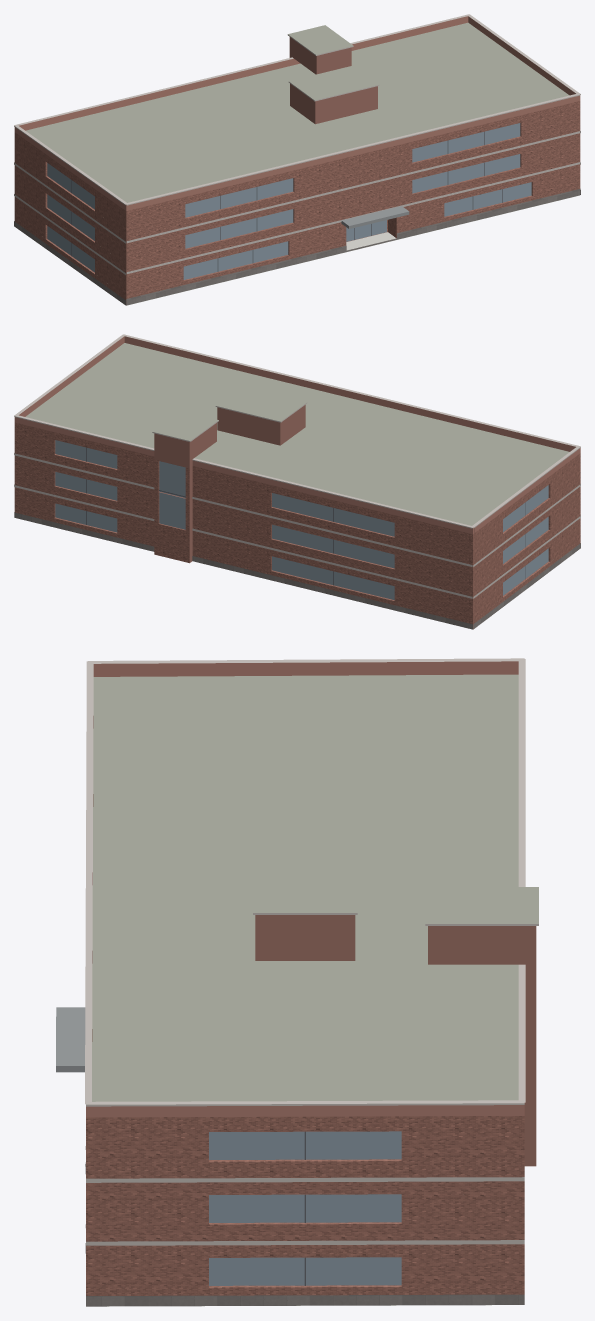
3 views of the same model, one above another, from view 1: azimuth 30°, elevation 25°; view 2: azimuth 150°, elevation 25°; view 3: azimuth 270°, elevation 25° (orthographic). The views are drawn at different scales.
Parts seen in each view (by area): view 1: b68_1__roof, b68_1__wall, b68_1__glass, b68_1__parapet, b68_1__trim, b68_1__base, b68_1__wall2, b68_1__canopy, b68_1__entranceStair; view 2: b68_1__roof, b68_1__wall, b68_1__glass, b68_1__parapet, b68_1__trim, b68_1__wall2, b68_1__base; view 3: b68_1__roof, b68_1__wall, b68_1__glass, b68_1__trim, b68_1__wall2, b68_1__parapet, b68_1__base, b68_1__canopy.
Part boxes in pixels (x1,y1,x2,y2): b68_1__roof: (26,22,579,305); b68_1__wall: (14,101,580,305); b68_1__glass: (47,123,531,279); b68_1__parapet: (14,16,580,210); b68_1__trim: (14,14,580,274); b68_1__base: (14,188,580,305); b68_1__wall2: (289,37,377,124); b68_1__canopy: (341,206,409,228); b68_1__entranceStair: (346,232,396,250); b68_1__roof: (25,343,569,525); b68_1__wall: (14,422,580,628); b68_1__glass: (55,440,548,599); b68_1__parapet: (14,336,580,534); b68_1__trim: (14,334,580,598); b68_1__wall2: (154,405,305,562); b68_1__base: (14,512,580,629); b68_1__roof: (92,674,538,1306); b68_1__wall: (86,1116,524,1295); b68_1__glass: (209,1131,401,1285); b68_1__trim: (85,658,538,1245); b68_1__wall2: (255,915,536,1166); b68_1__parapet: (86,661,524,1117); b68_1__base: (85,1164,524,1306); b68_1__canopy: (56,1007,85,1072).
Bounding box in the file's own units: 54.76 × 13.97 × 25.05.
Materials: 11 (2 with a texture image).
